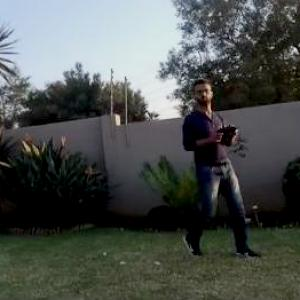follow: (178, 67, 266, 260)
